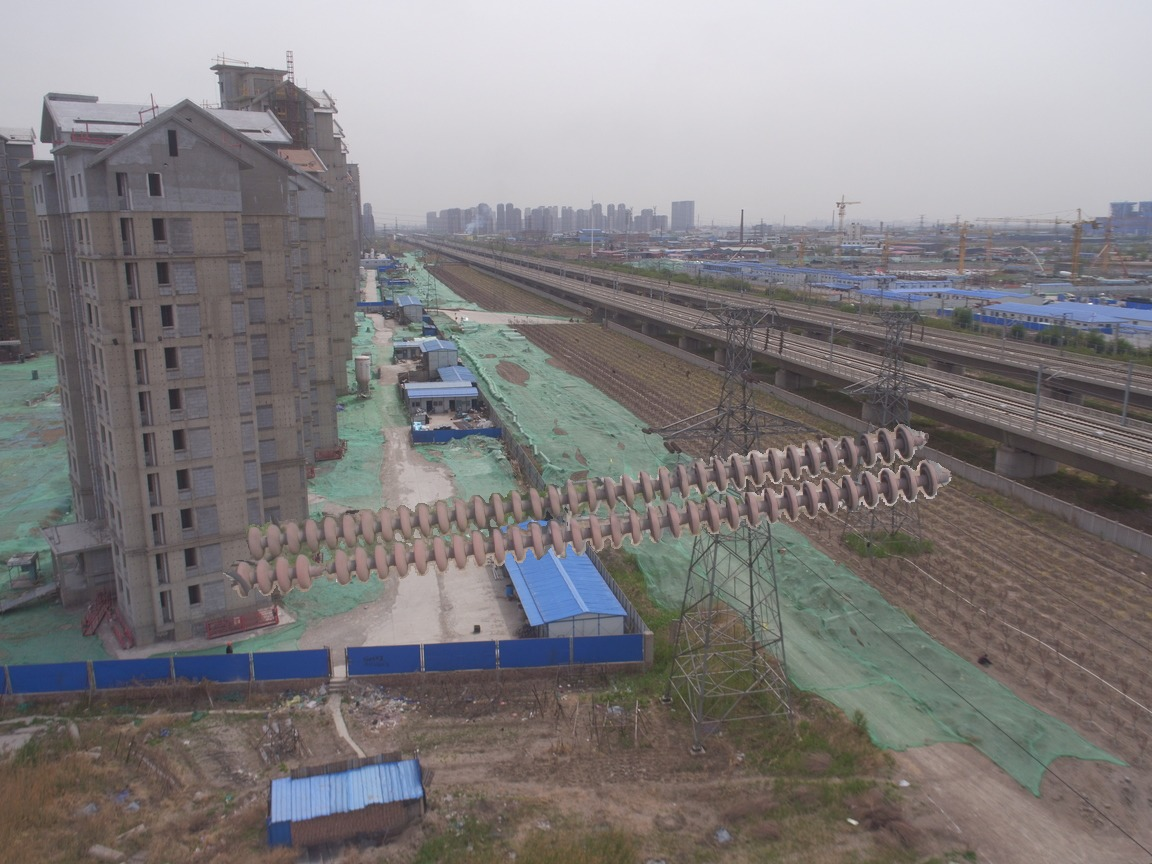defect: (291, 548, 356, 594)
